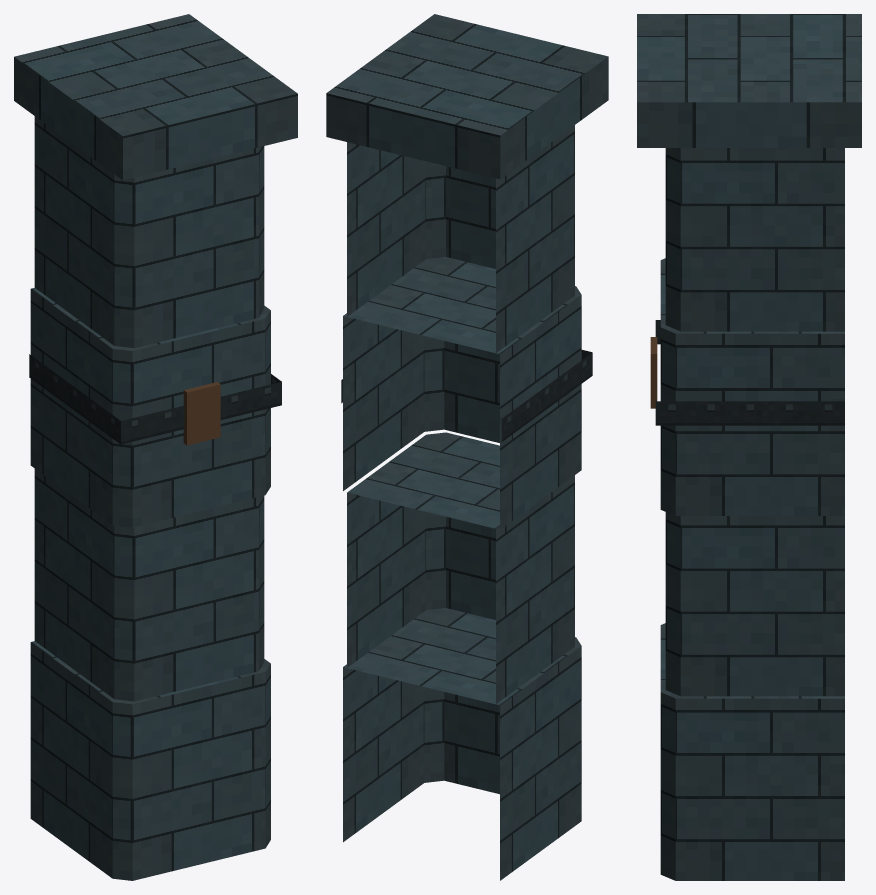
The model's file is T1_Pillar.fbx.
The picture shows the model from 3 angles, left to right: view 1: azimuth 30°, elevation 25°; view 2: azimuth 150°, elevation 25°; view 3: azimuth 270°, elevation 25°; orthographic projection. The views are drawn at different scales.
Visible parts, largest first — view 1: T1_Pillar; view 2: T1_Pillar; view 3: T1_Pillar.
Part boxes in pixels (bbox=[...]): T1_Pillar: bbox=[14, 14, 297, 880]; T1_Pillar: bbox=[326, 14, 608, 880]; T1_Pillar: bbox=[637, 14, 861, 880].
Bounding box in the file's own units: 1.25 × 5.15 × 1.34.
